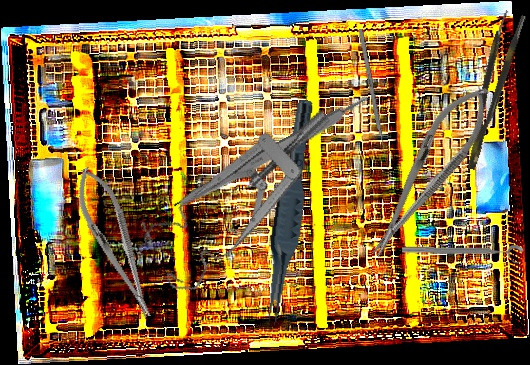Fixation Ring: (401, 242, 524, 266)
Needle Holder: (353, 73, 505, 268), (65, 161, 166, 325)
Pusher: (357, 28, 390, 165)
Scalpel Handle: (170, 92, 375, 215)
Speculum: (122, 107, 369, 301)
Tissue Forceps: (260, 98, 315, 327), (453, 9, 527, 171)
